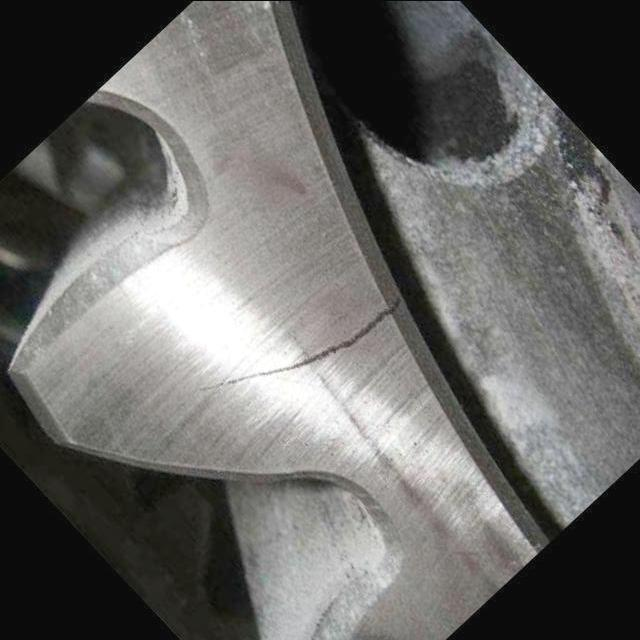defect: (189, 292, 408, 397)
